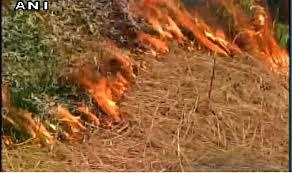fire: (134, 0, 288, 67), (76, 47, 139, 125)
